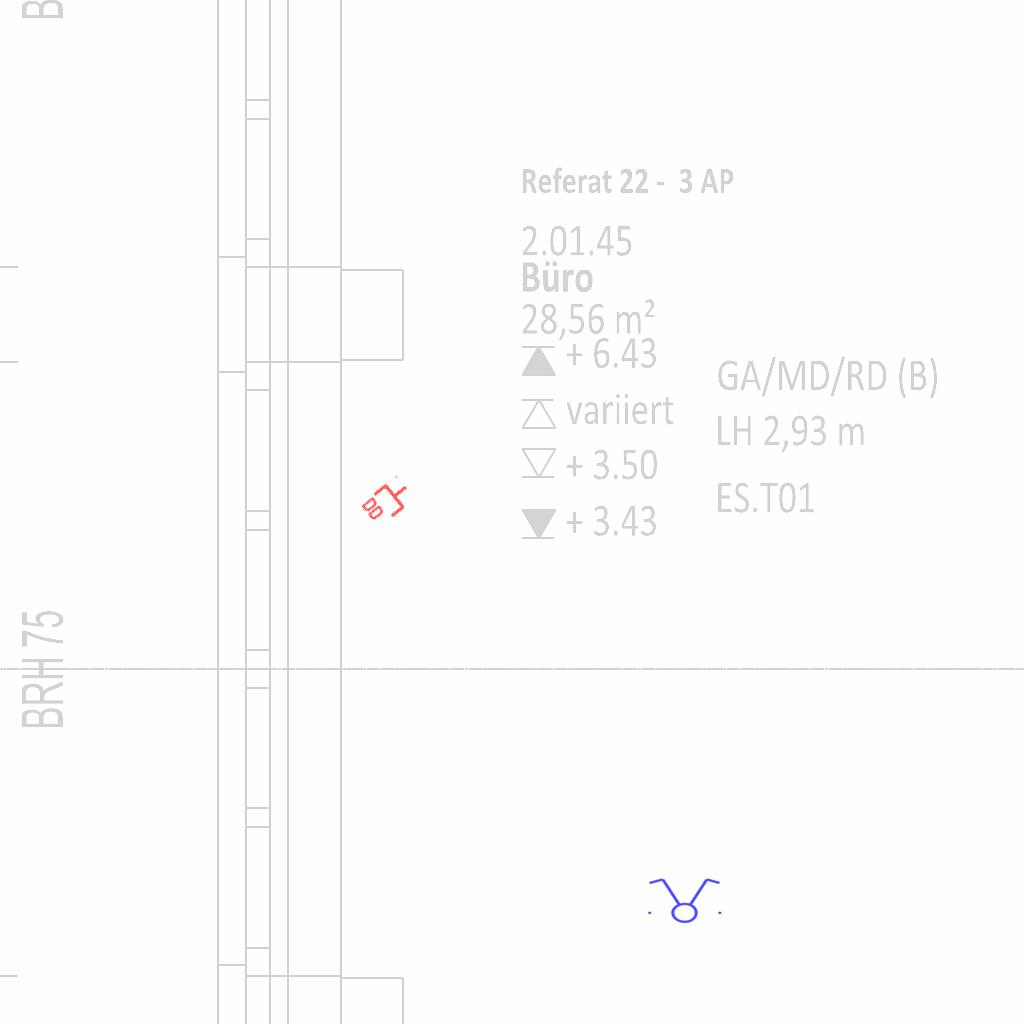Datenanschluss_zweifach: (357, 473, 419, 532)
Serienschalter: (642, 876, 726, 924)
